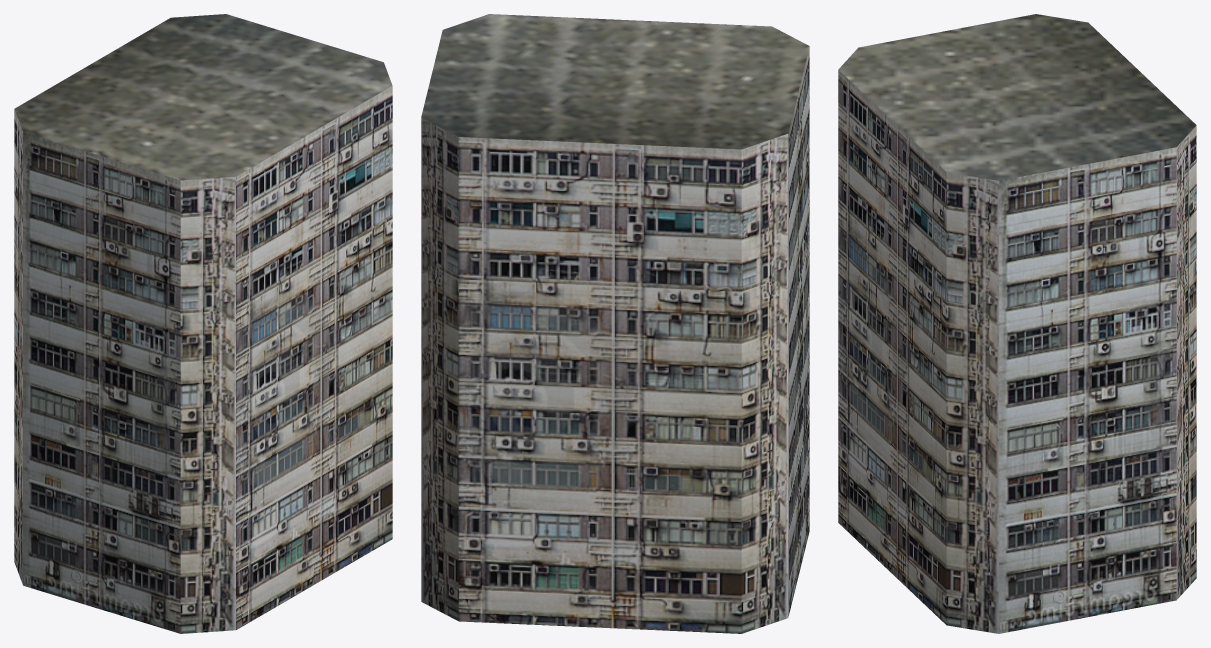
File: sample.obj
3 views of the same model, side by side, from view 1: azimuth 30°, elevation 25°; view 2: azimuth 150°, elevation 25°; view 3: azimuth 270°, elevation 25° (orthographic). The views are drawn at different scales.
Parts seen in each view (by area): view 1: (null); view 2: (null); view 3: (null).
Boxes of the visible parts, x1=… form: (null): x1=14, y1=14, x2=392, y2=633; (null): x1=421, y1=14, x2=809, y2=633; (null): x1=838, y1=14, x2=1196, y2=633.
Size of the model in its own units: 63.75 by 80.75 by 57.88.
1 material, 1 textured.
